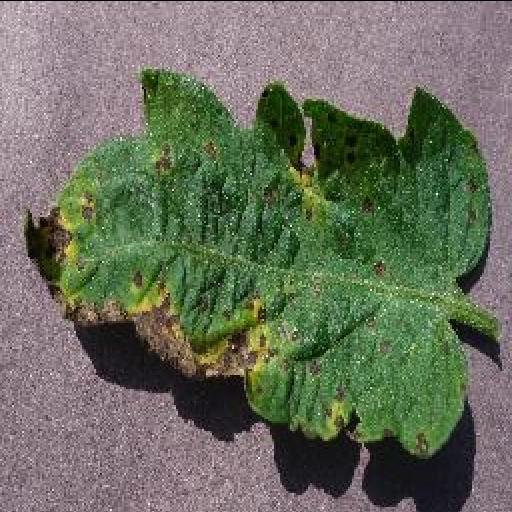disease_tomato: (26, 66, 490, 460)
